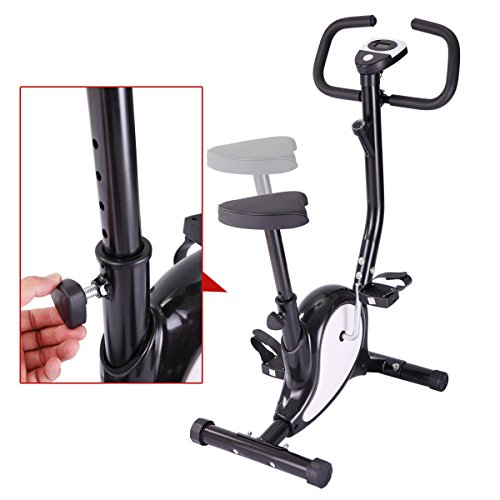gym_bike: (206, 16, 474, 475)
